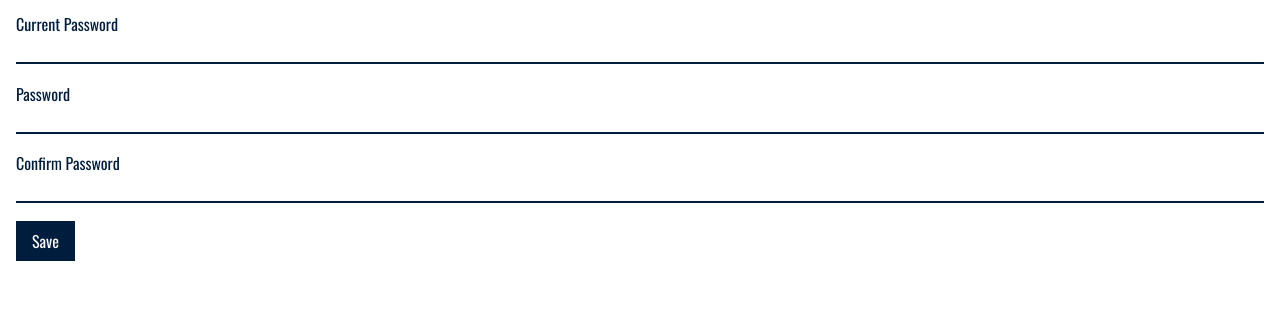
Scenario: Edit User Password Form › should display an error message for a password less than 8 characters long
Type "Pa$$w0rd" into the password field labelled "Current Password" at (640, 51), box [16,37,1264,64]
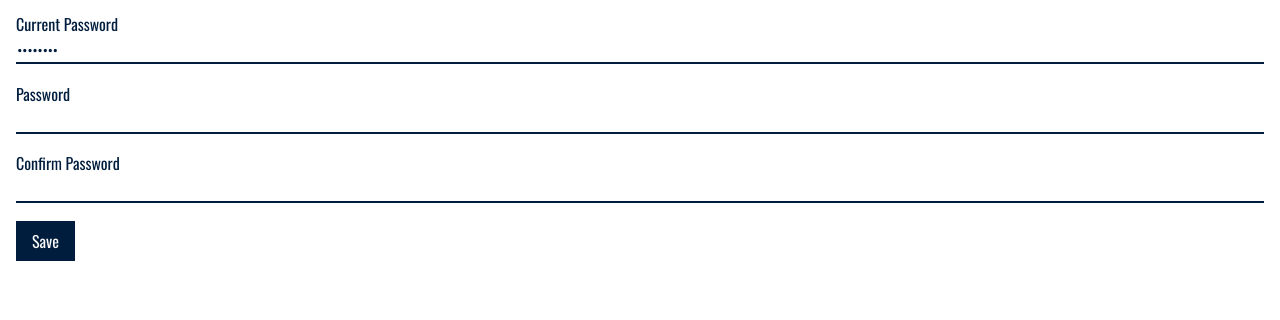
Type "Pa$$" into the password field labelled "Password" at (640, 120), box [16,107,1264,134]
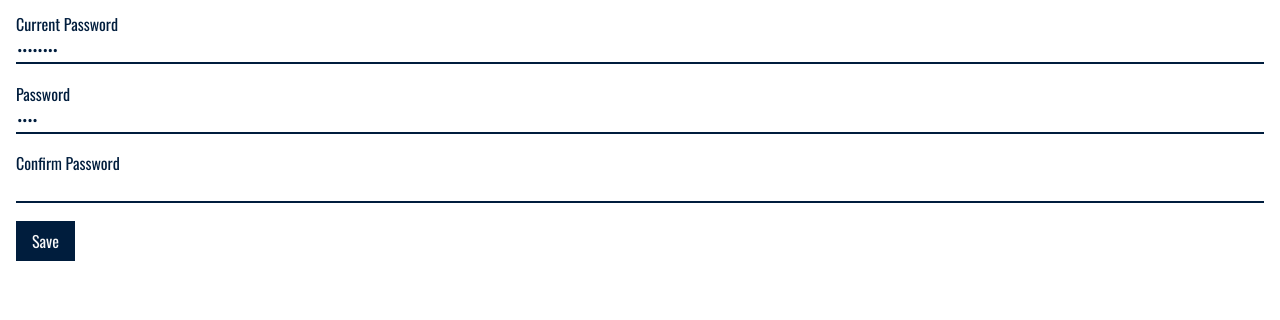
Type "Pa$$w0rd" into the password field labelled "Confirm Password" at (640, 190), box [16,176,1264,203]
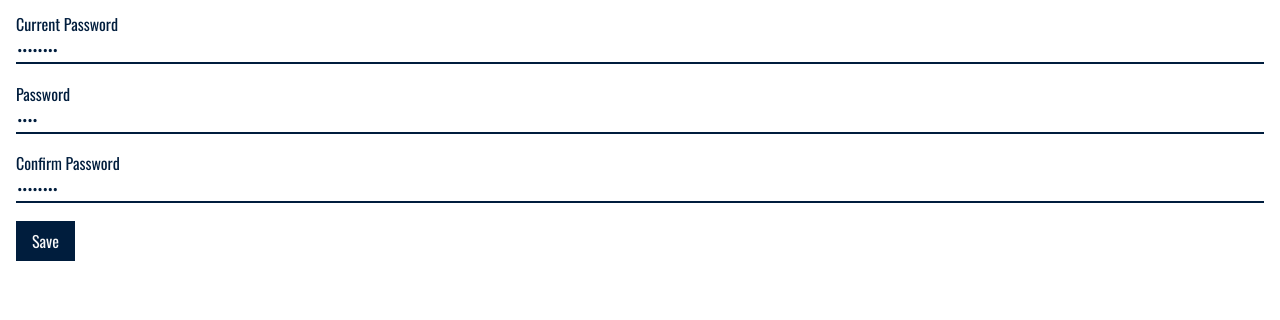
Click the button "Save" at (46, 240), box [16,220,75,260]
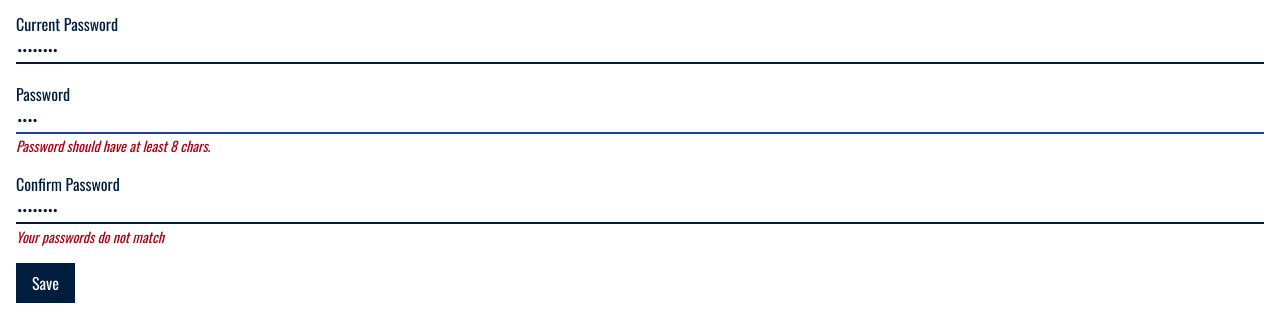
Result: the text "Password should have at least 8 chars." is shown at [16,135,210,156]
